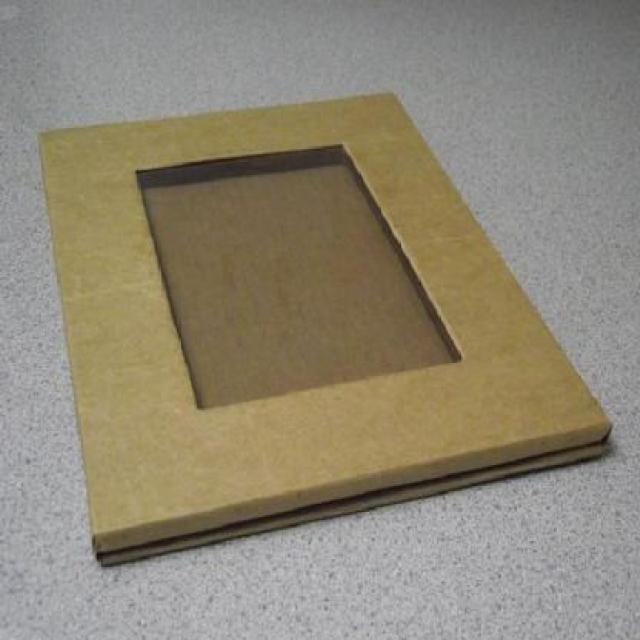box: (30, 76, 625, 572)
